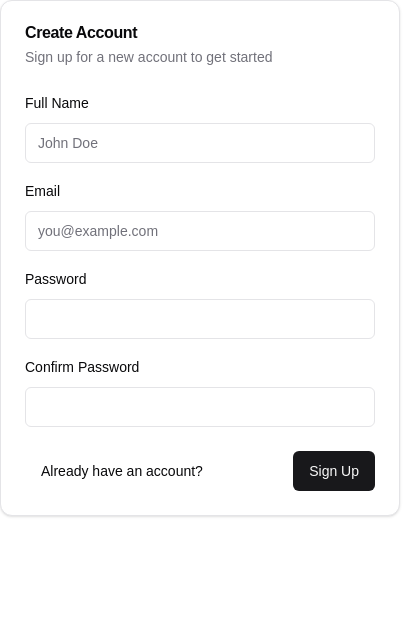
Test: SignUpForm › validates form fields
What coordinates should you click on to do the following:
click the button "Sign Up"
I would click on:
 (334, 471)
Its box is [293,451,375,491].
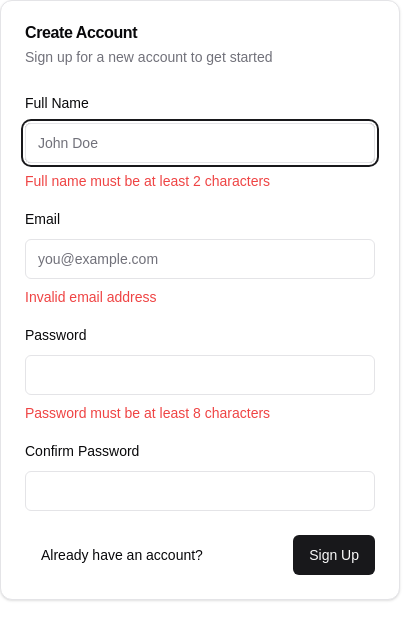
Expected: the text "Full name must be at least 2 characters" is shown, [25,173,270,189]
Expected: the text "Invalid email address" is shown, [25,289,156,305]
Expected: the text "Password must be at least 8 characters" is shown, [25,405,270,421]
